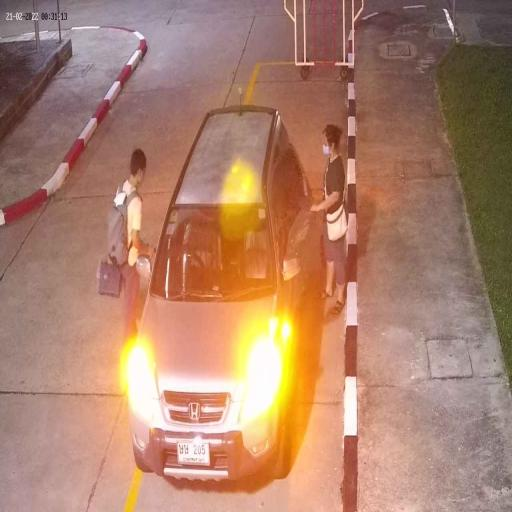car: (126, 104, 306, 483)
